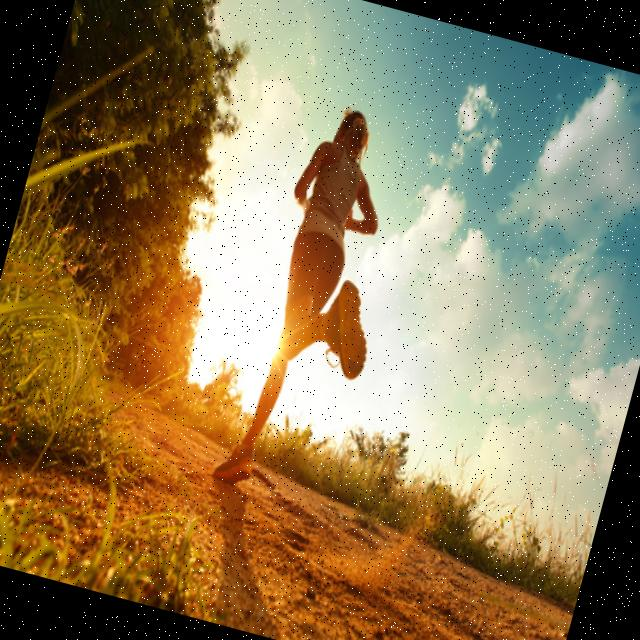Person: (212, 98, 427, 508)
